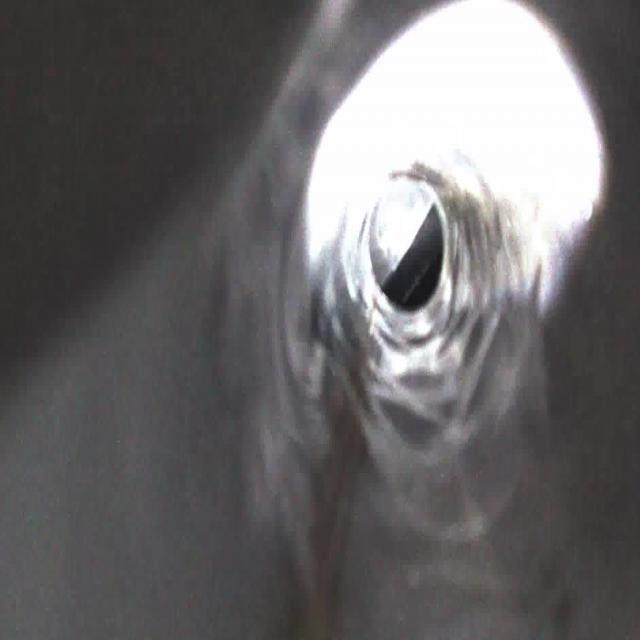crack: (448, 316, 508, 407), (448, 202, 496, 298), (374, 322, 436, 367)
